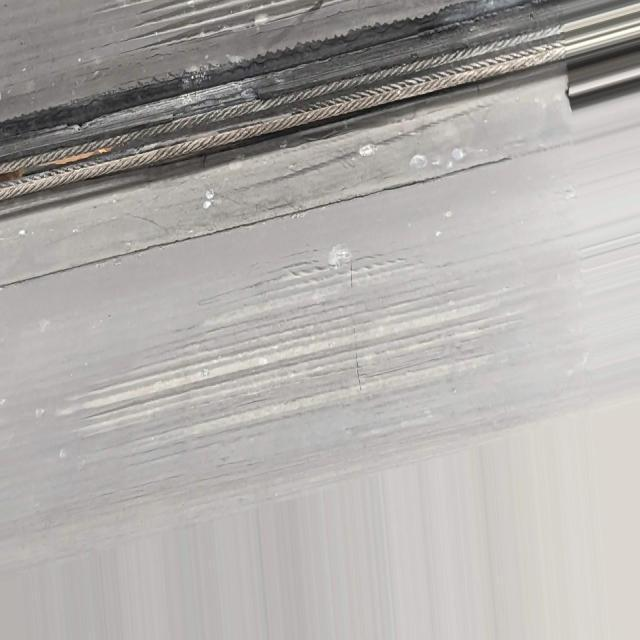Tear: (0, 0, 566, 221)
Wear: (72, 235, 540, 468), (91, 0, 337, 65)
